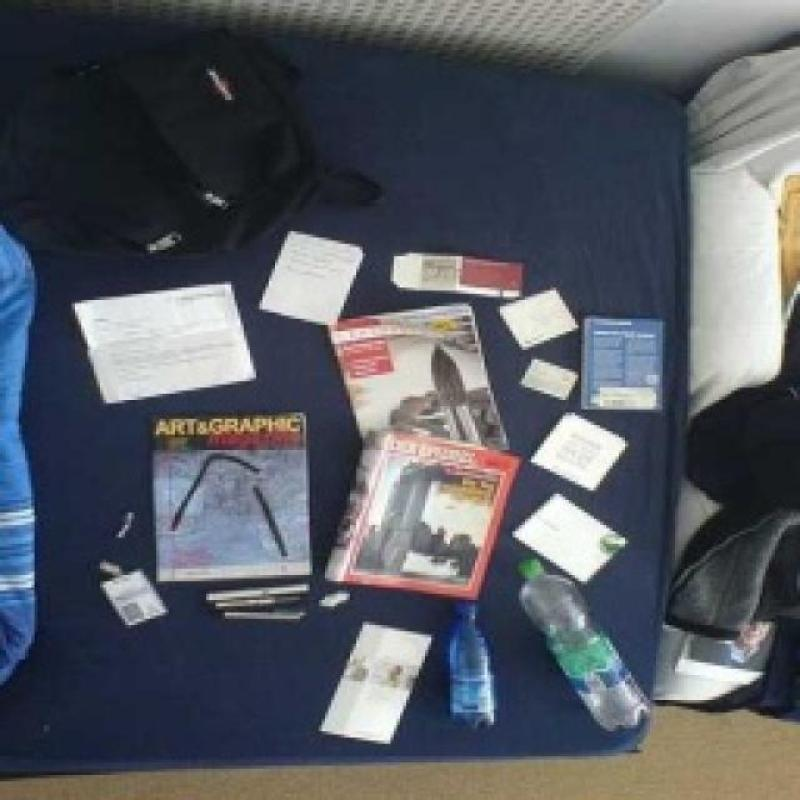botella: (518, 558, 654, 732), (441, 603, 497, 732)
